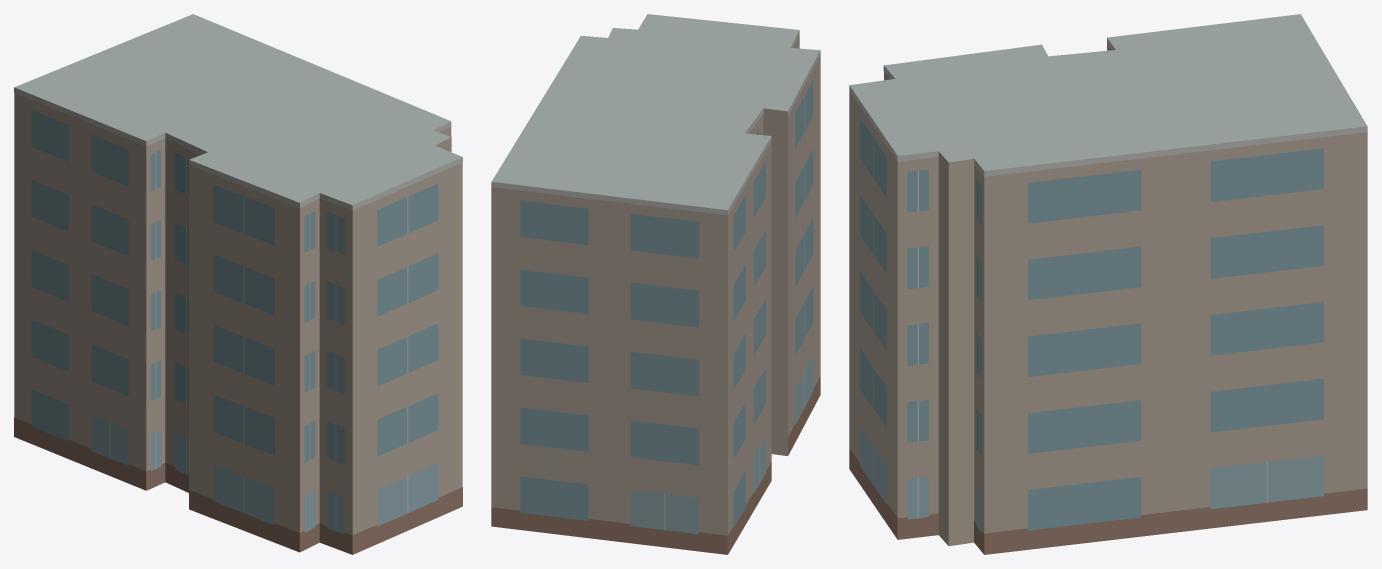
Rendered from survey-upis-33026239.glb.
3 renders of one model, left to right at view 1: azimuth 30°, elevation 25°; view 2: azimuth 150°, elevation 25°; view 3: azimuth 270°, elevation 25°, orthographic. The views are drawn at different scales.
Parts seen in each view (by area): view 1: survey-upis-33026239.tmp; view 2: survey-upis-33026239.tmp; view 3: survey-upis-33026239.tmp.
Boxes of the visible parts, <box> form: survey-upis-33026239.tmp: <box>14,14,462,554</box>; survey-upis-33026239.tmp: <box>491,14,820,554</box>; survey-upis-33026239.tmp: <box>849,14,1367,554</box>.
Bounding box in the file's own units: 14.14 × 16.1 × 19.7.
